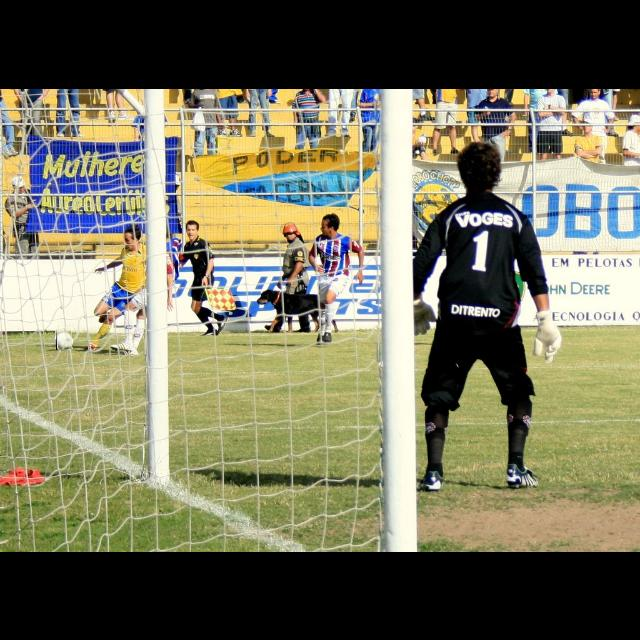Football: (56, 328, 72, 350)
